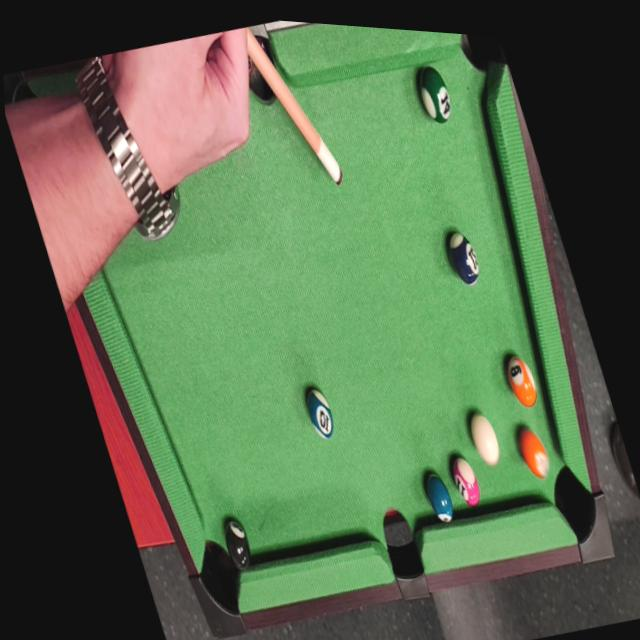cue ball: (464, 407, 505, 471)
other: (409, 55, 458, 123), (498, 346, 544, 414), (440, 225, 488, 288), (299, 378, 341, 444), (217, 511, 259, 577), (513, 420, 555, 484), (445, 452, 486, 511), (422, 473, 459, 527)
